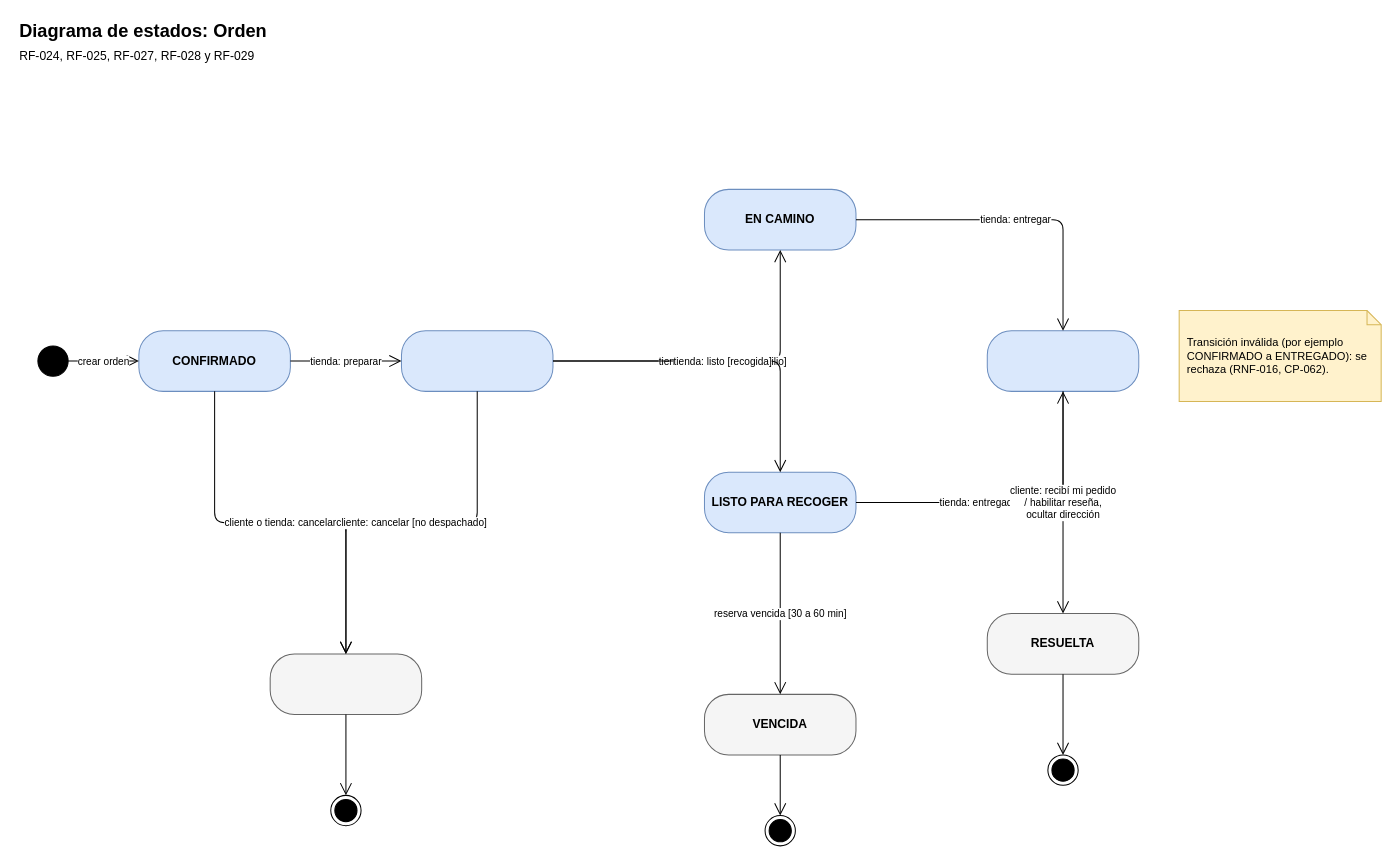
This 1399x864 diagram has some shape labels left out. Here are the shapes that lost their labels. From the top down, the centre of each, then its label:
[476,360]: PREPARANDO
[1062,360]: ENTREGADO
[345,684]: CANCELADO
